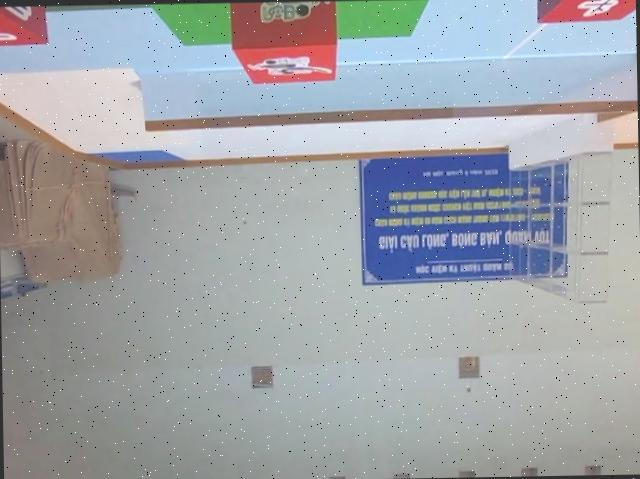R1: (227, 0, 340, 86)
R2 Real: (533, 0, 635, 26)
